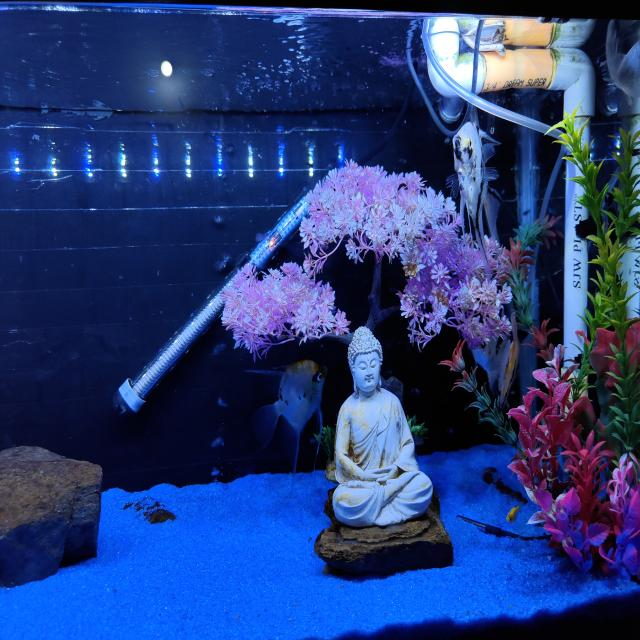Fish: (249, 360, 327, 473), (448, 121, 500, 274), (472, 313, 519, 405), (507, 505, 519, 523)
